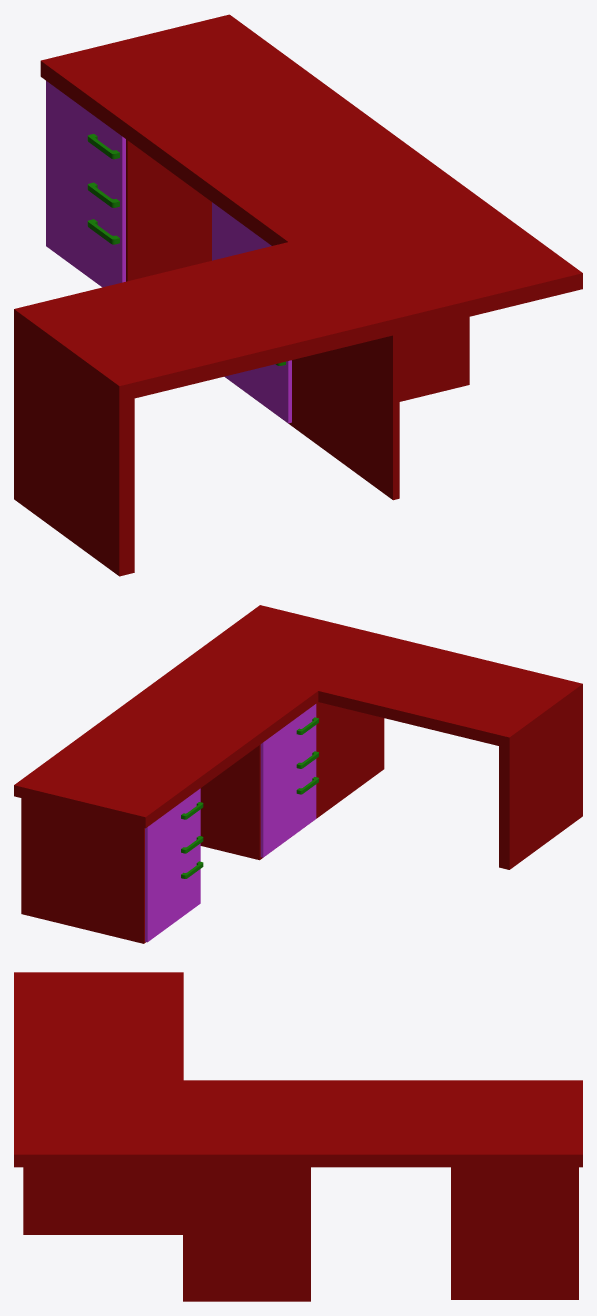
Rendered from A_JD_Desk_001.fbx.
The picture shows the model from 3 angles, top to bottom: view 1: azimuth 30°, elevation 25°; view 2: azimuth 150°, elevation 25°; view 3: azimuth 270°, elevation 25°; orthographic projection. The views are drawn at different scales.
Visible parts, largest first — view 1: Bureau, Tir_01, Tir_02, Tir_00, Tir_05, Tir_03; view 2: Bureau, Tir_05, Tir_01, Tir_04, Tir_02, Tir_03, Tir_00; view 3: Bureau.
Part boxes in pixels (bbox=[...]): Bureau: bbox=[14, 14, 582, 576]; Tir_01: bbox=[46, 177, 125, 287]; Tir_02: bbox=[46, 128, 125, 232]; Tir_00: bbox=[46, 81, 125, 183]; Tir_05: bbox=[224, 360, 291, 423]; Tir_03: bbox=[212, 202, 271, 257]; Bureau: bbox=[14, 605, 582, 943]; Tir_05: bbox=[260, 771, 318, 857]; Tir_01: bbox=[145, 855, 203, 942]; Tir_04: bbox=[260, 737, 318, 809]; Tir_02: bbox=[145, 821, 203, 893]; Tir_03: bbox=[260, 704, 318, 775]; Tir_00: bbox=[145, 788, 203, 859]; Bureau: bbox=[14, 972, 582, 1301].
Size of the model in its own units: 203 by 79.71 by 268.
